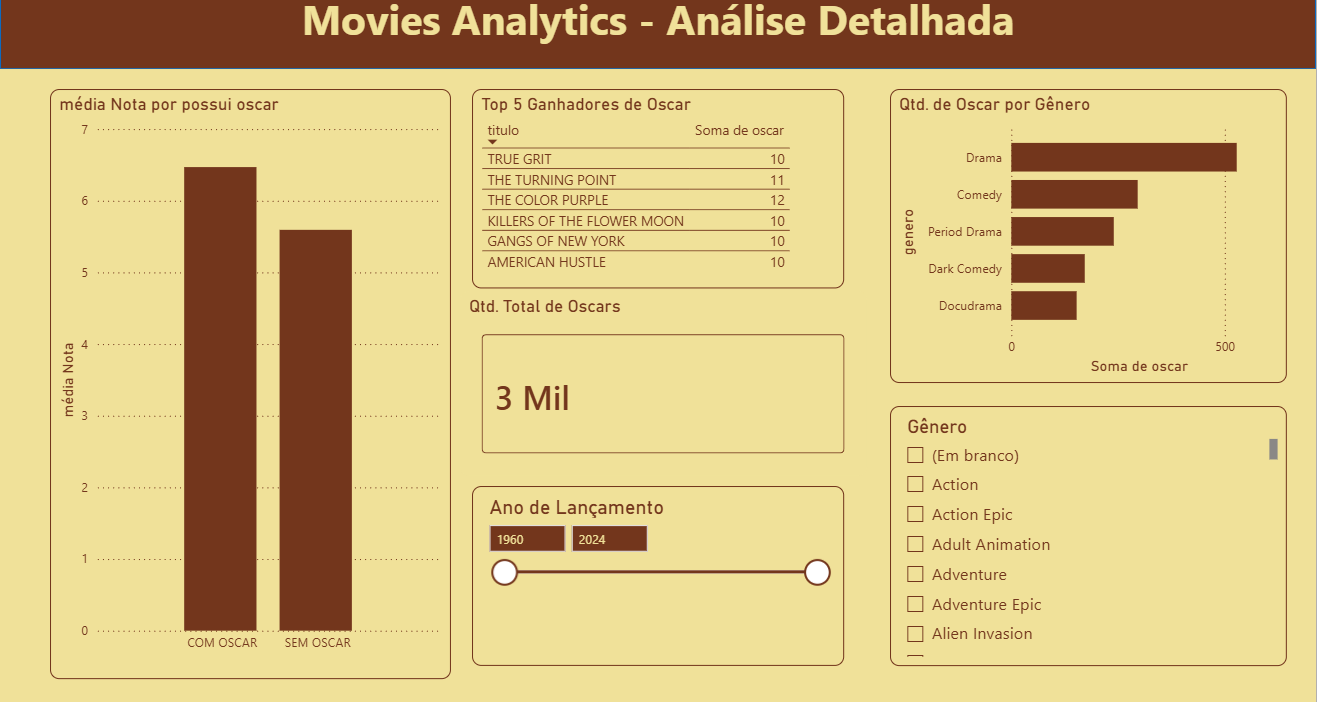

This screenshot's page, from the dashboard's own definition file:
{"tool":"powerbi","page":{"name":"Página 2","canvas":[1280,720],"ordinal":1},"visuals":[{"type":"shape","title":"Relatório ","box":[0,0,1280,100.2],"z":0},{"type":"clusteredColumnChart","fields":{"Category":["filmes.possui oscar"],"Y":["filmes.média Nota"]},"box":[48.6,119.6,390,573.9],"z":2000},{"type":"barChart","title":"Qtd. de Oscar por Gênero","fields":{"Category":["filmes.genero"],"Y":["Sum(filmes.oscar)"]},"box":[865.7,119.6,386.1,286],"z":3000},{"type":"cardVisual","title":"Qtd. Total de Oscars","fields":{"Data":["Sum(filmes.oscar)"]},"box":[447.4,316.1,395.9,179.9],"z":4000},{"type":"tableEx","title":"Top 5 Ganhadores de Oscar","fields":{"Values":["filmes.titulo","Sum(filmes.oscar)"]},"box":[459.1,119.6,361.8,193.6],"z":4001},{"type":"slicer","fields":{"Values":["filmes.ano_lancamento"]},"box":[459.1,505.8,361.8,175.1],"z":4002},{"type":"slicer","fields":{"Values":["filmes.genero"]},"box":[865.7,428,386.1,252.9],"z":4003}]}

Visuals, with their boxes on the page's 1280x720 design canvas (x1, y1, x2, y2). These are canvas units, not pixel positions in the 1317x702 screenshot, which may show the page scaled, cropped or inside an application window:
"Relatório " shape: box(0, 0, 1280, 100)
clusteredColumnChart - filmes.possui oscar x filmes.média Nota: box(49, 120, 439, 694)
"Qtd. de Oscar por Gênero" barChart: box(866, 120, 1252, 406)
"Qtd. Total de Oscars" cardVisual: box(447, 316, 843, 496)
"Top 5 Ganhadores de Oscar" tableEx: box(459, 120, 821, 313)
slicer - filmes.ano_lancamento: box(459, 506, 821, 681)
slicer - filmes.genero: box(866, 428, 1252, 681)
